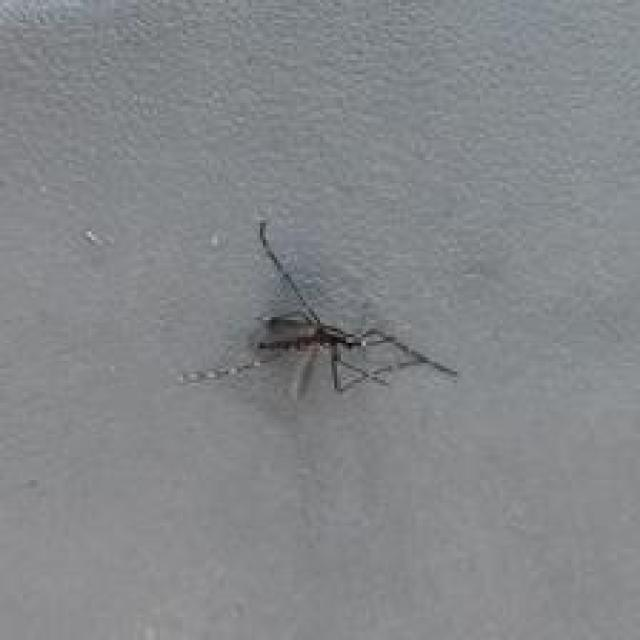Aedes albopictus: (178, 219, 458, 404)
